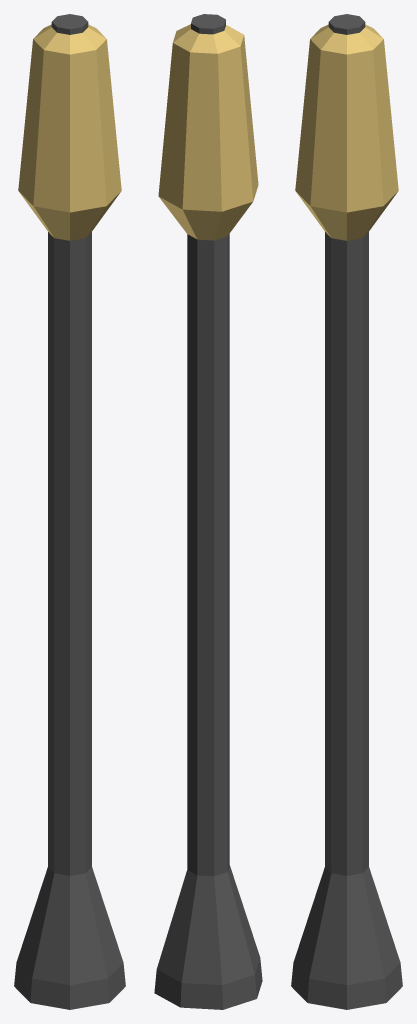
File: StreetLight.fbx
3 renders of one model, left to right at view 1: azimuth 90°, elevation 25°; view 2: azimuth 150°, elevation 25°; view 3: azimuth 270°, elevation 25°, orthographic.
Parts seen in each view (by area): view 1: StreetLight; view 2: StreetLight; view 3: StreetLight.
Part boxes in pixels (x1,y1,x2,y2): StreetLight: [14, 14, 125, 1009]; StreetLight: [154, 14, 262, 1009]; StreetLight: [291, 14, 402, 1009].
Bounding box in the file's own units: 37.95 × 361 × 37.95.
